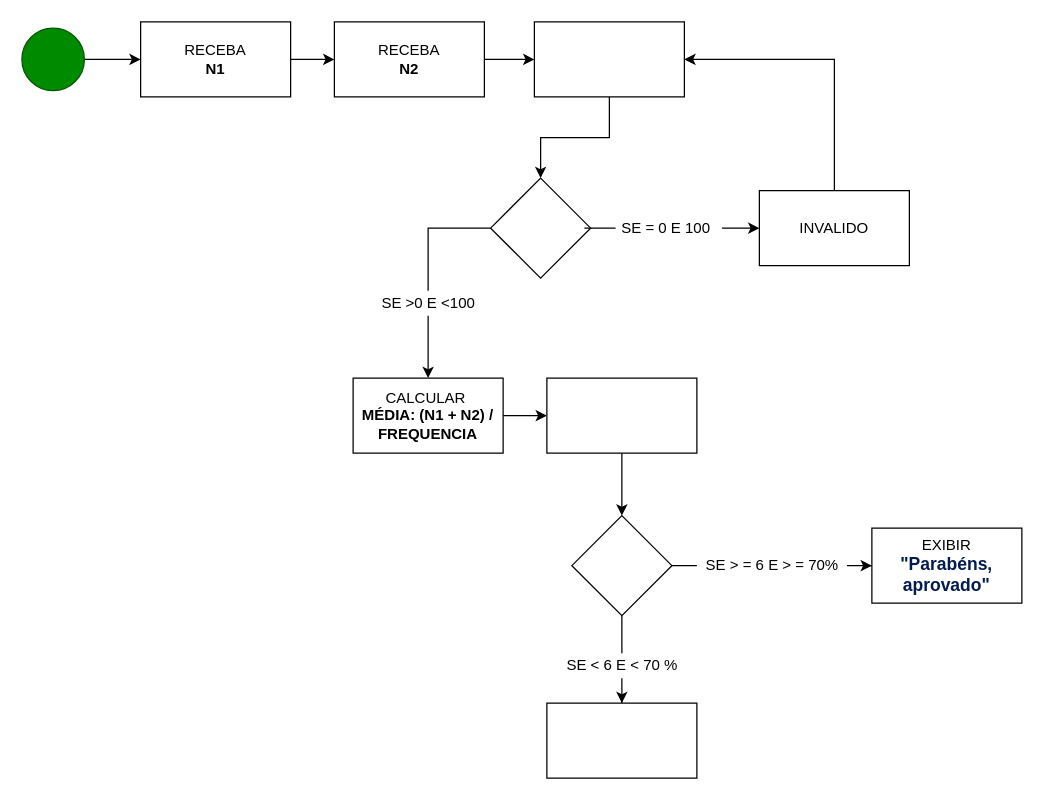
The diagram is 1044 pixels wide and 800 high, and some of its shapes have lost their labels. Here are the shapes that lost their labels. From the top down, the centre of each, then its label:
(x=608, y=59): RECEBA FREQUENCIA
(x=621, y=415): EXIBIR MÉDIA
(x=621, y=740): EXIBIR "Infelizmente, reprovado"
